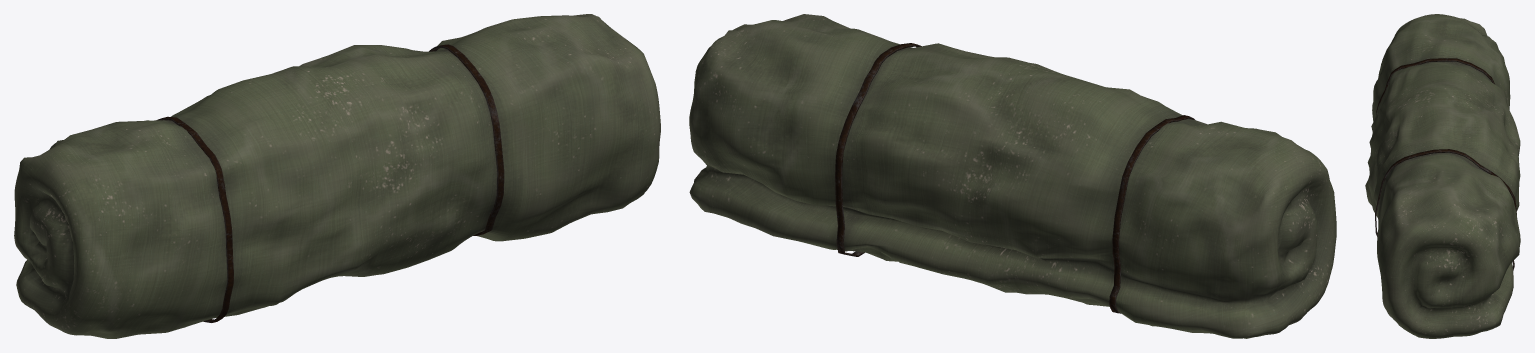
File: RolledClothes.glb
The picture shows the model from 3 angles, left to right: view 1: azimuth 30°, elevation 25°; view 2: azimuth 150°, elevation 25°; view 3: azimuth 270°, elevation 25°; orthographic projection. The views are drawn at different scales.
Parts seen in each view (by area): view 1: tarp; view 2: tarp; view 3: tarp.
Boxes of the visible parts, left/top/right/bottom form: tarp: left=14, top=14, right=660, bottom=338; tarp: left=689, top=14, right=1336, bottom=338; tarp: left=1365, top=14, right=1520, bottom=338.
Bounding box in the file's own units: 118 × 39.3 × 36.53.
Materials: 2 (2 with a texture image).
